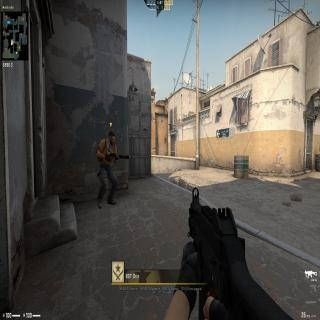T-Head: (108, 130, 115, 147)
